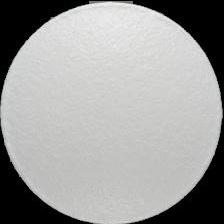66116-470: (0, 0, 224, 224)
